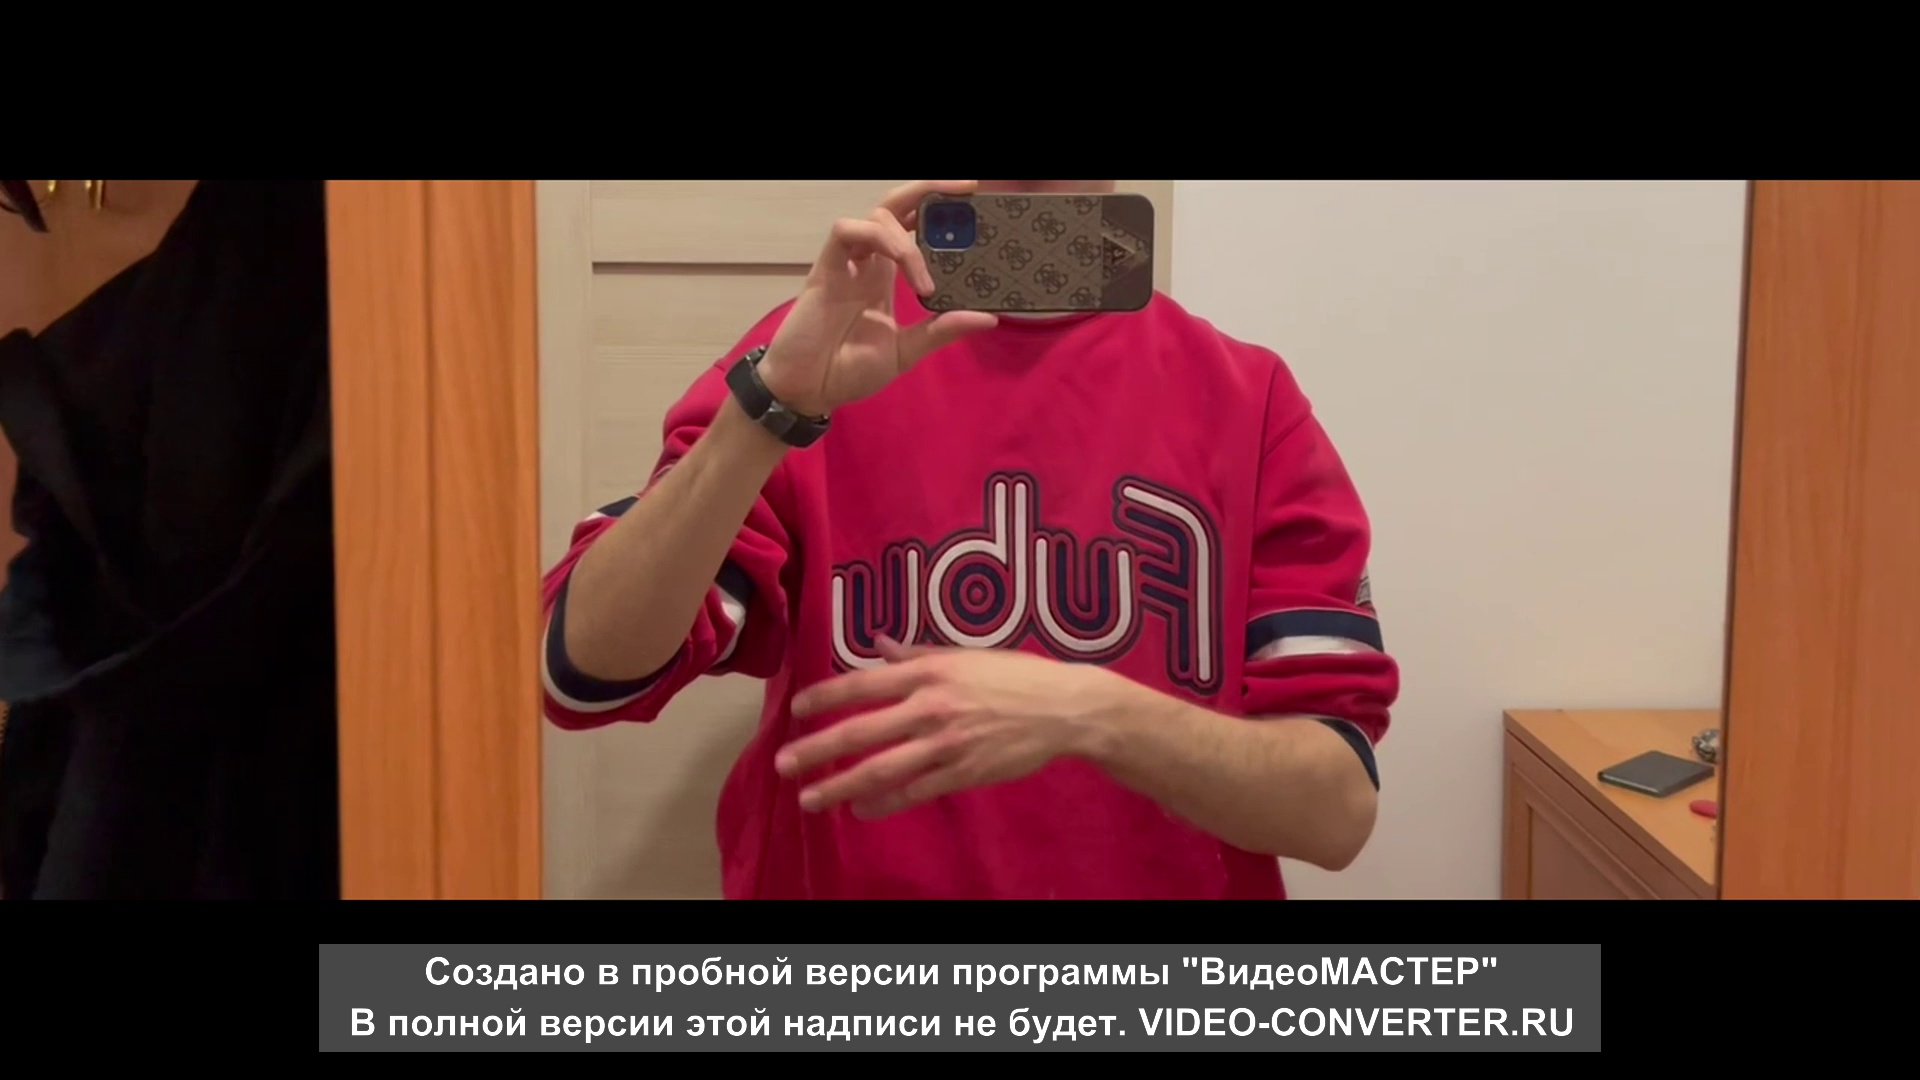Кисть: (777, 629, 1092, 823)
